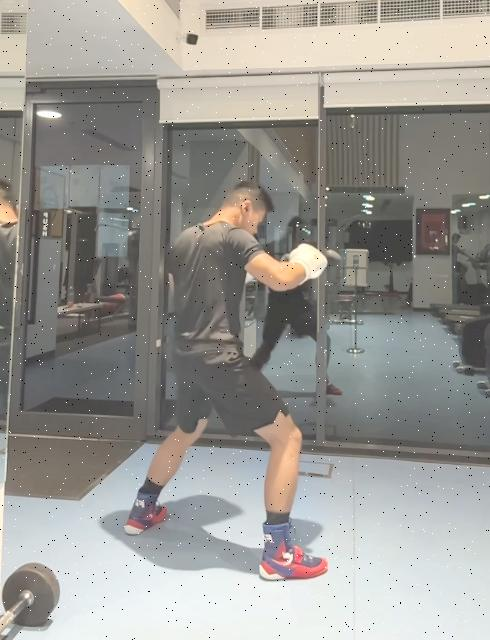punch: (122, 175, 332, 582)
